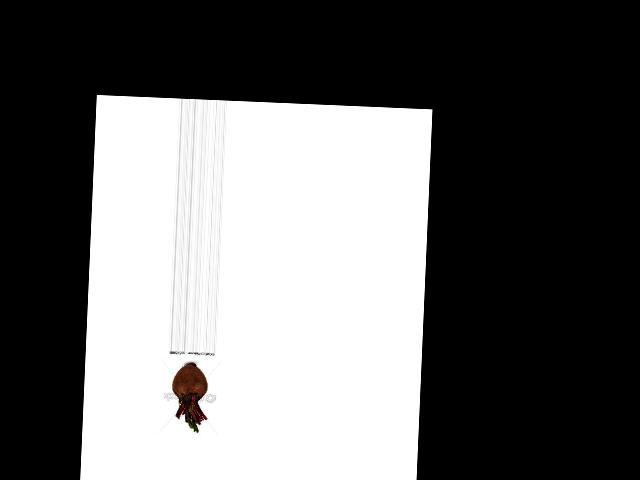beet: (169, 362, 209, 432)
